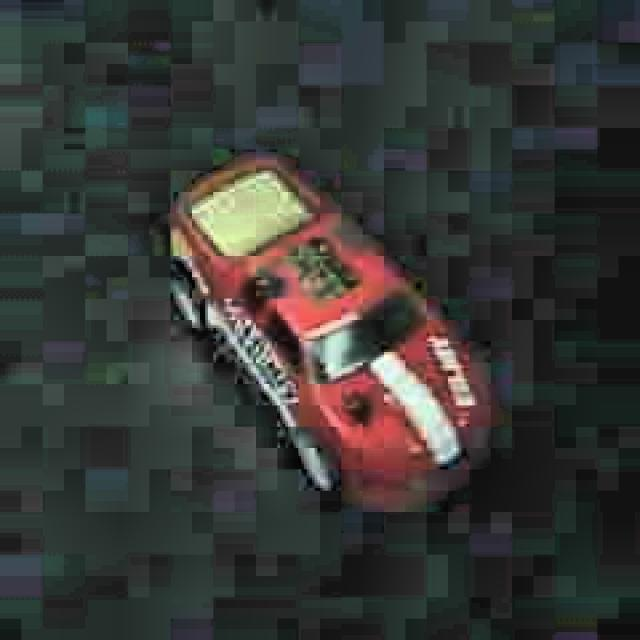car: (163, 146, 498, 514)
